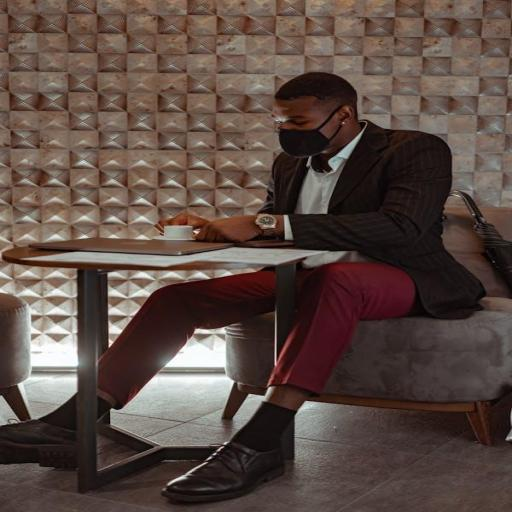mask: (260, 76, 360, 158)
